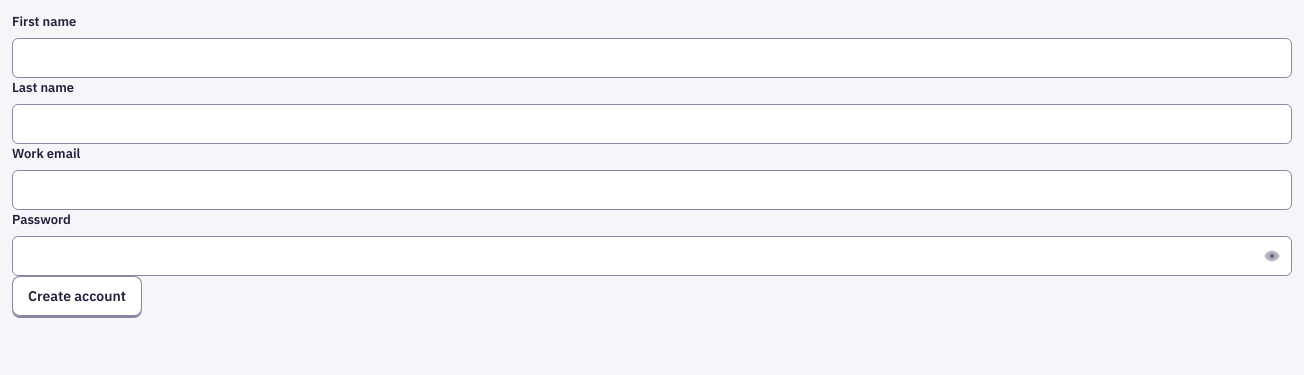
Test case: useApiForm › shows a server message for a field the form doesn’t have above the form
Type "Sami" into the field labelled "First name" at (652, 58), box x1=12 y1=38 x2=1292 y2=78
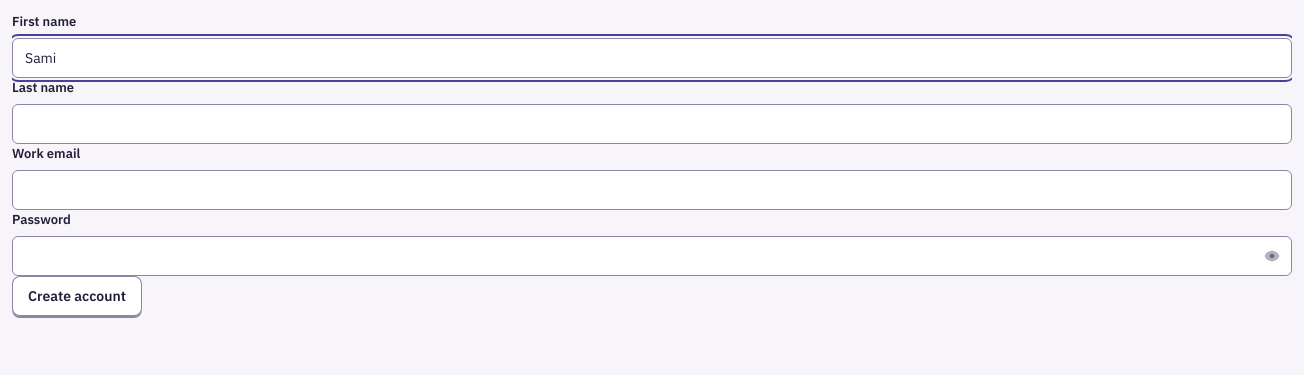
Type "Nour" into the field labelled "Last name" at (652, 124), box x1=12 y1=104 x2=1292 y2=144
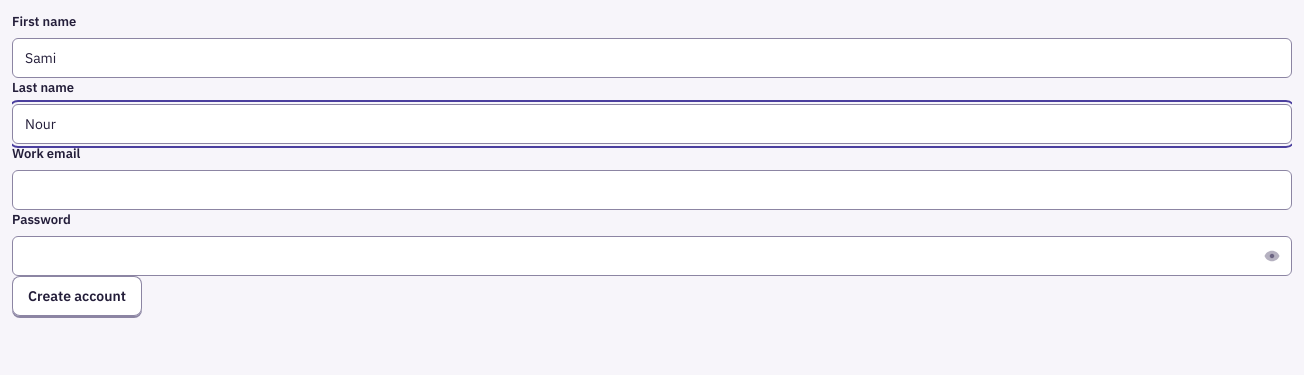
Type "sami.nour@shop-team.com" into the field labelled "Work email" at (652, 190), box x1=12 y1=170 x2=1292 y2=210
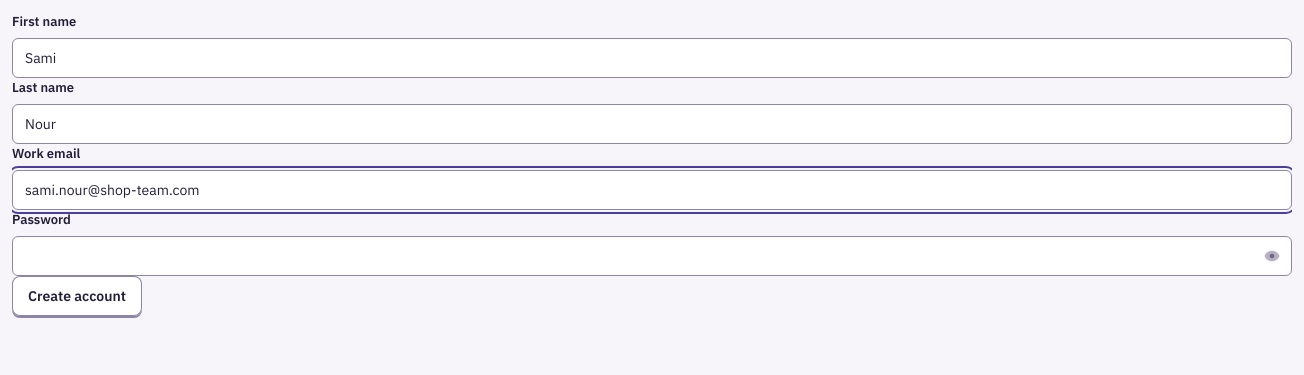
Type "Correct#456" into the password field labelled "Password" at (652, 256), box x1=12 y1=236 x2=1292 y2=276
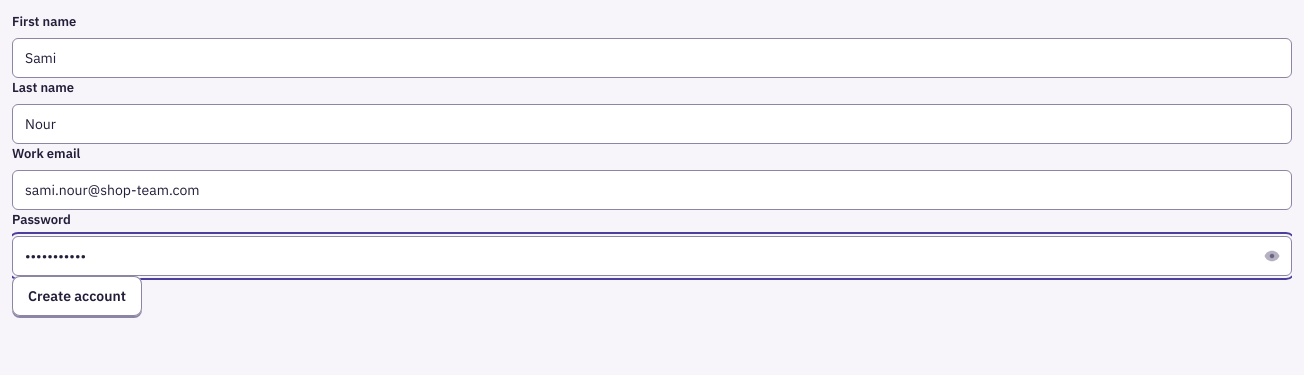
Click the button "Create account" at (77, 296), box x1=12 y1=276 x2=142 y2=316
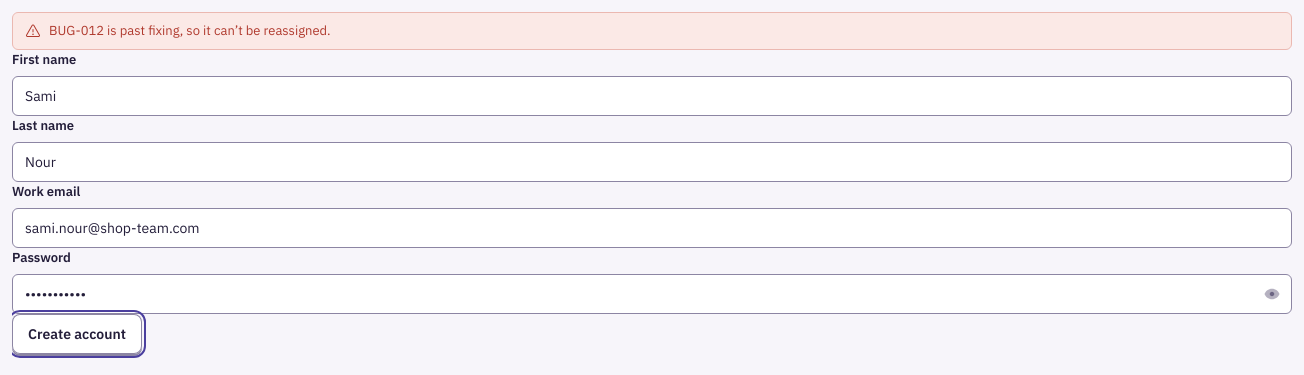
expect the message reads "BUG-012 is past fixing, so it can’t be reassigned.": met, box x1=49 y1=22 x2=331 y2=39
